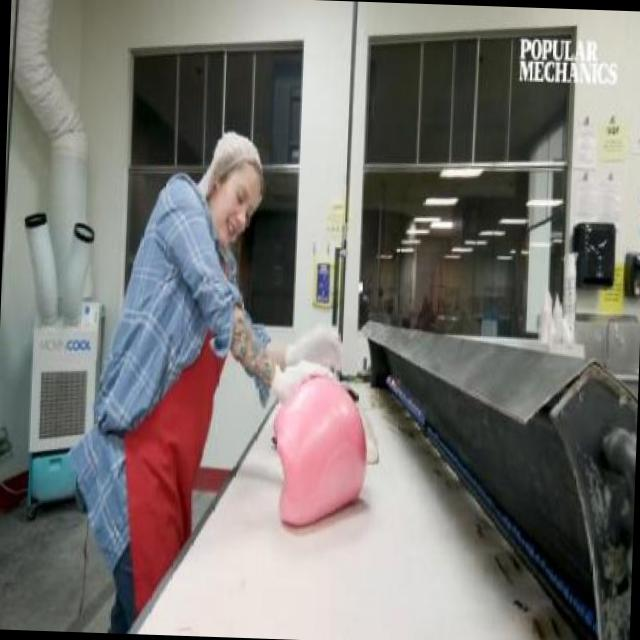hairnet: (203, 130, 260, 188)
